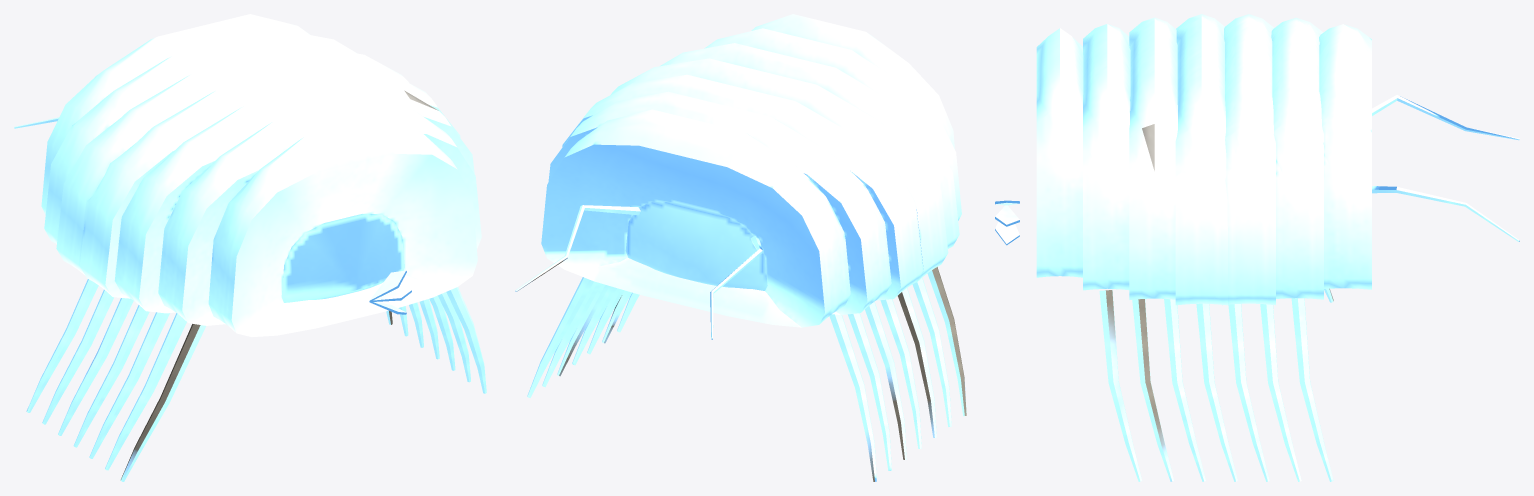
File: bathynomus_giganteus.glb
The picture shows the model from 3 angles, left to right: view 1: azimuth 30°, elevation 25°; view 2: azimuth 150°, elevation 25°; view 3: azimuth 270°, elevation 25°; orthographic projection. The views are drawn at different scales.
Parts seen in each view (by area): view 1: bathynomus_giganteus; view 2: bathynomus_giganteus; view 3: bathynomus_giganteus.
Boxes of the visible parts, bbox=[...] form: bathynomus_giganteus: bbox=[14, 14, 486, 481]; bathynomus_giganteus: bbox=[515, 14, 966, 481]; bathynomus_giganteus: bbox=[995, 14, 1519, 481].
Size of the model in its own units: 0.6181 by 0.5472 by 0.7543.
Materials: 2 (2 with a texture image).
